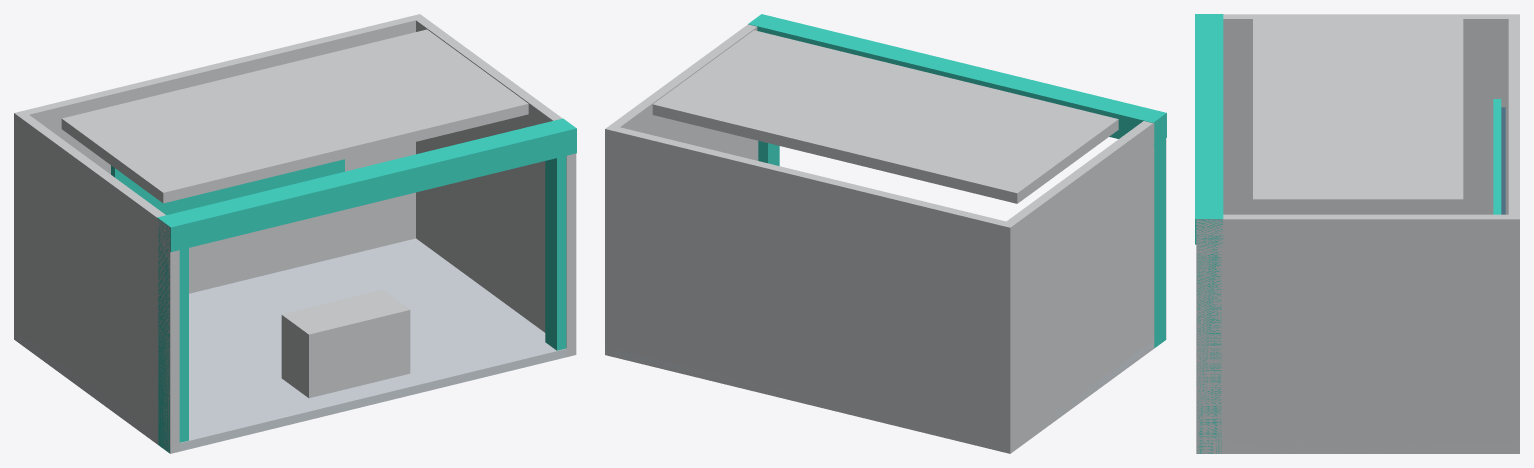
3 views of the same model, side by side, from view 1: azimuth 30°, elevation 25°; view 2: azimuth 150°, elevation 25°; view 3: azimuth 270°, elevation 25° (orthographic). The views are drawn at different scales.
Visible parts, largest first — view 1: Exhibition Booth Concept; view 2: Exhibition Booth Concept; view 3: Exhibition Booth Concept.
Part boxes in pixels (x1,y1,x2,y2): Exhibition Booth Concept: [14, 14, 576, 453]; Exhibition Booth Concept: [605, 14, 1166, 453]; Exhibition Booth Concept: [1195, 14, 1519, 453].
Bounding box in the file's own units: 6 × 3.34 × 4.02.
